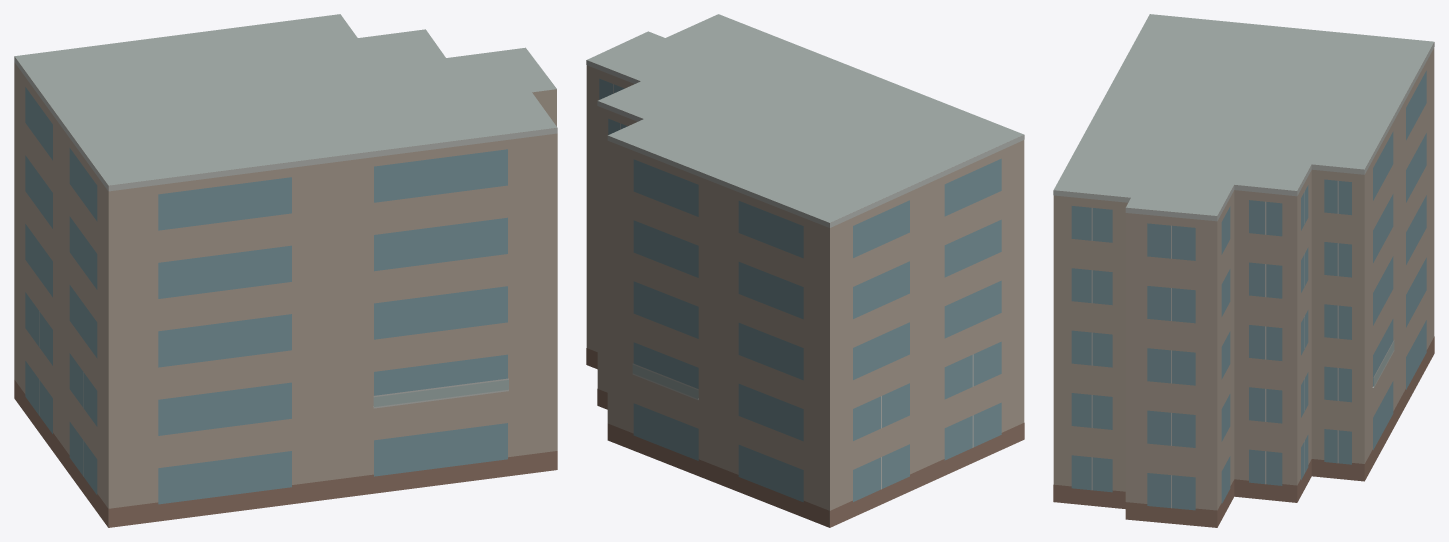
Rendered from survey-upis-32678526.glb.
The picture shows the model from 3 angles, left to right: view 1: azimuth 30°, elevation 25°; view 2: azimuth 150°, elevation 25°; view 3: azimuth 270°, elevation 25°; orthographic projection. The views are drawn at different scales.
Visible parts, largest first — view 1: survey-upis-32678526.tmp; view 2: survey-upis-32678526.tmp; view 3: survey-upis-32678526.tmp.
Boxes of the visible parts, <box> form: survey-upis-32678526.tmp: <box>14,14,557,527</box>; survey-upis-32678526.tmp: <box>586,14,1024,527</box>; survey-upis-32678526.tmp: <box>1053,14,1434,527</box>.
Bounding box in the file's own units: 20.02 × 14.4 × 15.95.
